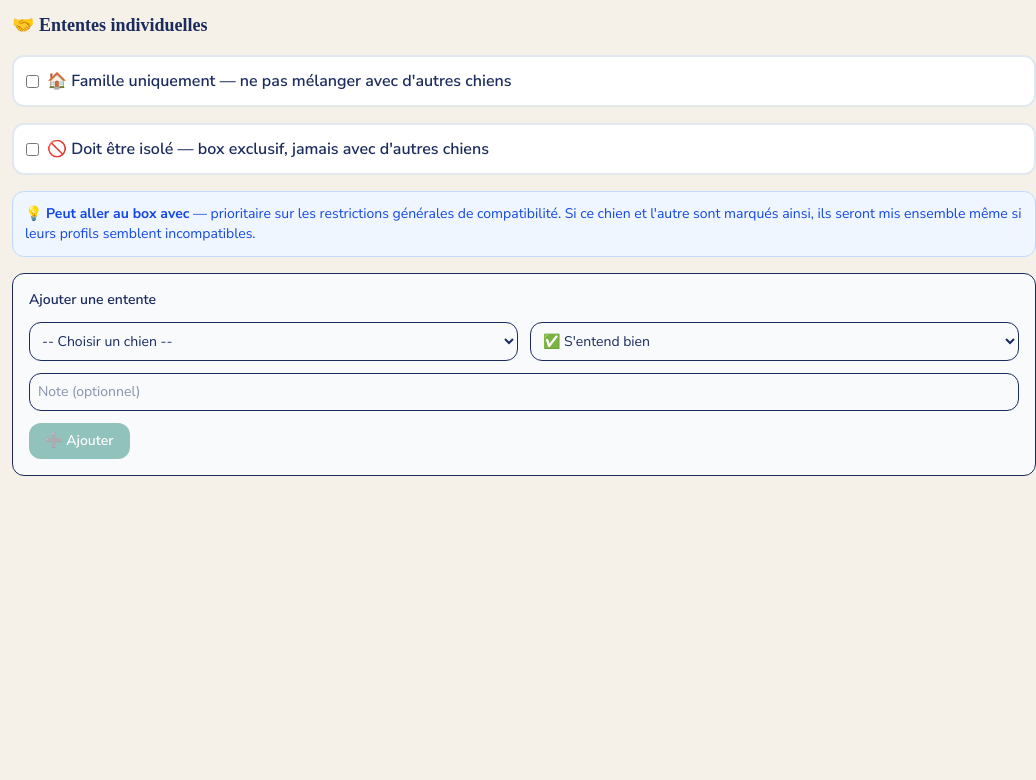
Test: Ententes : la liste est affichée, puis le réseau tombe › l'ajout échoue : message, bouton réactivé, et la liste reste à l'écran
Select "Filou — Bouvier" in the 1st dropdown at [274, 342], box [29, 322, 518, 361]
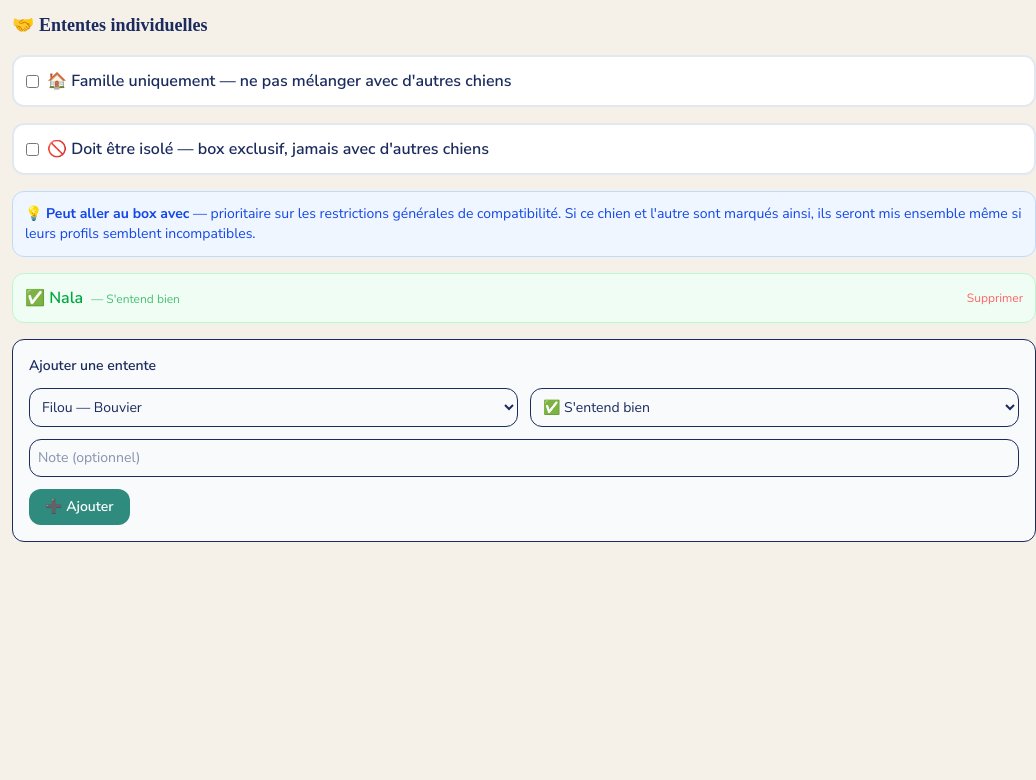
Click the button "➕ Ajouter" at [79, 507], box [29, 489, 130, 525]
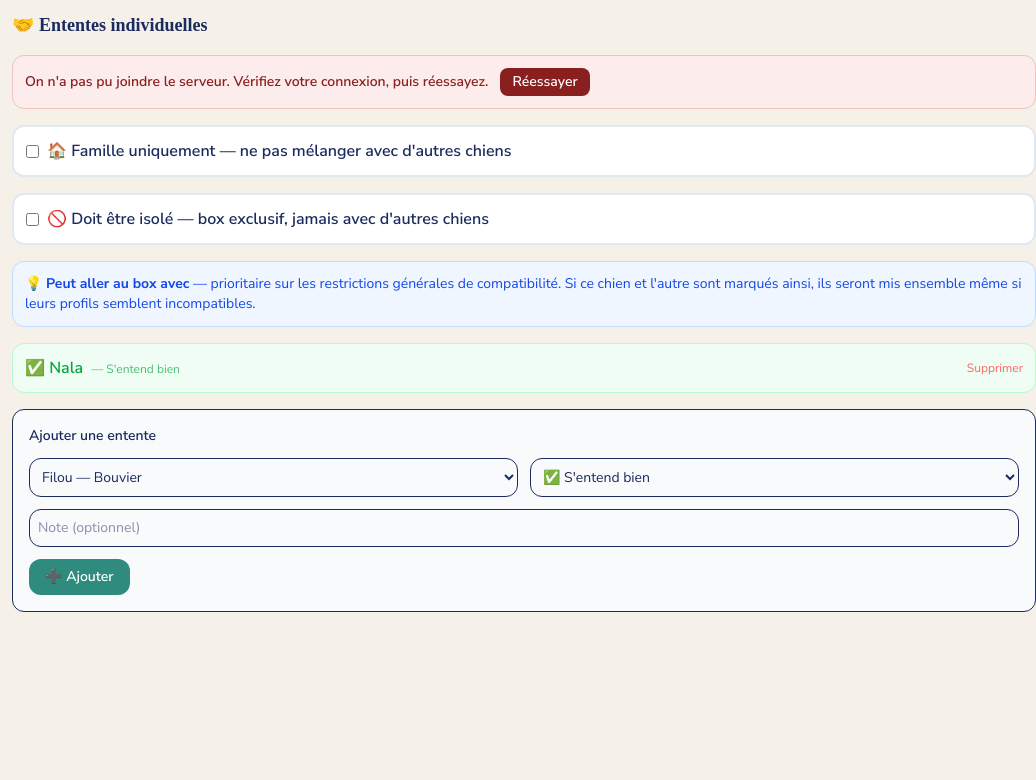
expect the button "➕ Ajouter" is enabled: met, box [29, 559, 130, 595]
expect the text "✅ Nala— S'entend bien" is shown: met, box [25, 357, 180, 379]
expect the message shows "On n'a pas pu joindre le serveur. Vérifiez votre connexion, puis réessayez.": met, box [25, 72, 488, 91]
